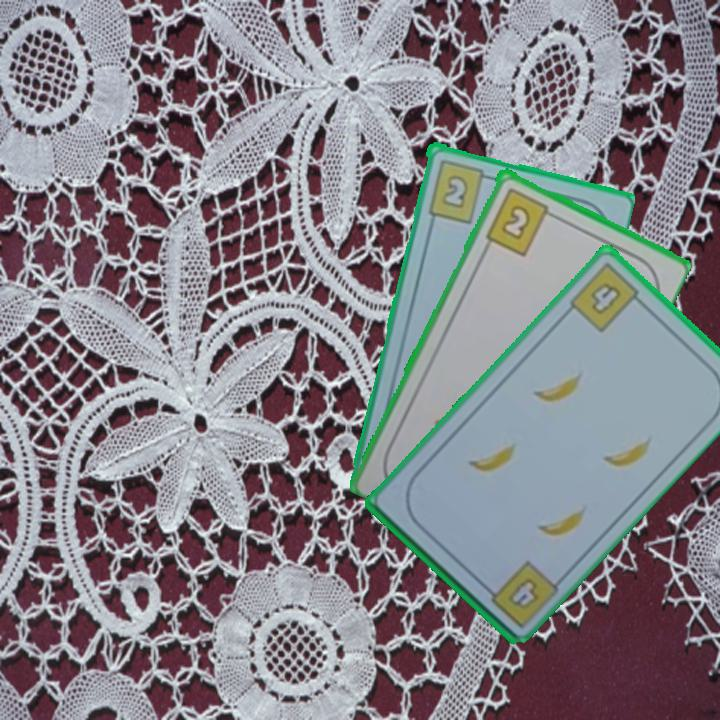2b: (482, 183, 559, 258), (424, 155, 495, 225)
4b: (565, 258, 648, 335), (508, 576, 538, 608)
